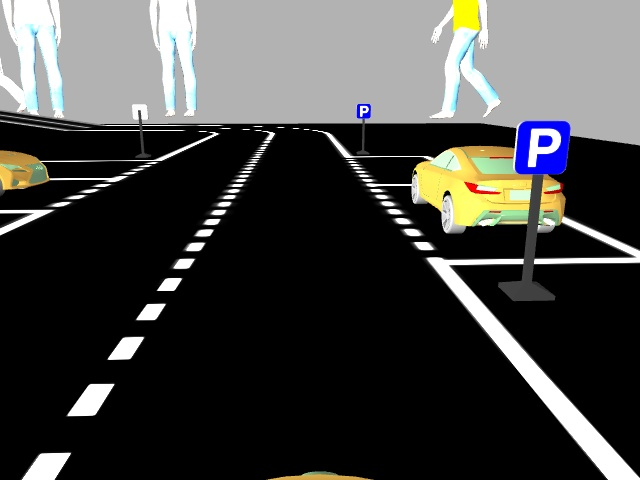Parking: (512, 118, 572, 177), (354, 102, 370, 120)
